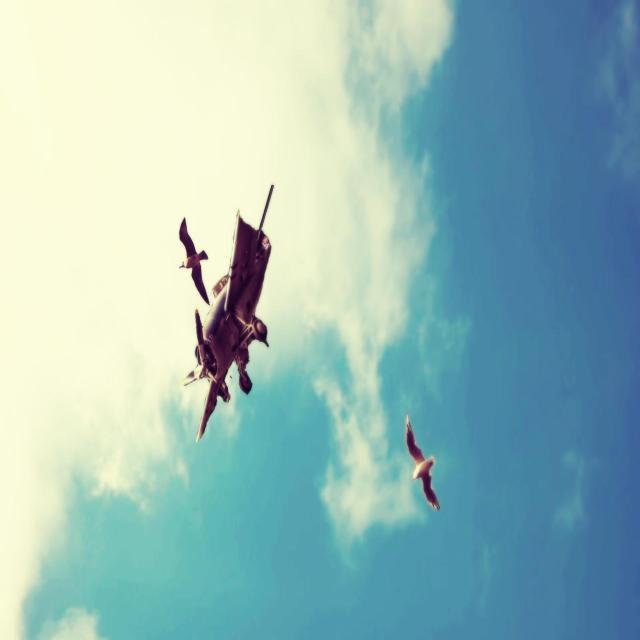airplane: (185, 182, 275, 442)
